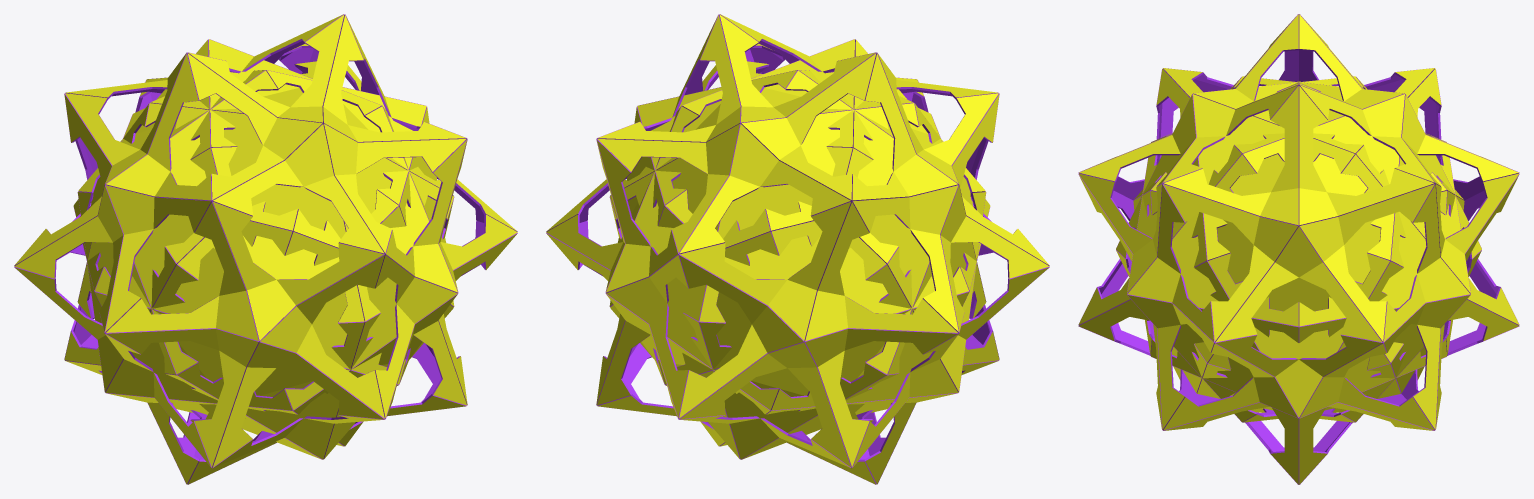
File: MedialIcosacronicHexecontahedronS1.glb
3 renders of one model, left to right at view 1: azimuth 30°, elevation 25°; view 2: azimuth 150°, elevation 25°; view 3: azimuth 270°, elevation 25°, orthographic. The views are drawn at different scales.
Parts seen in each view (by area): view 1: root; view 2: root; view 3: root.
Boxes of the visible parts, left/top/right/bottom form: root: left=14, top=14, right=517, bottom=484; root: left=546, top=14, right=1049, bottom=484; root: left=1078, top=14, right=1519, bottom=484.
Bounding box in the file's own units: 10.38 × 10.38 × 10.38.
